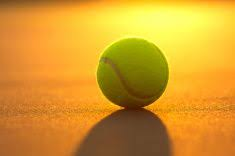tennis_ball: (95, 35, 170, 110)
